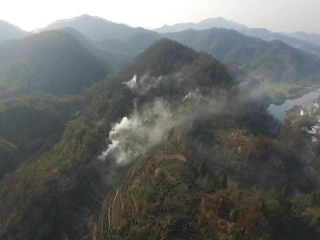smoke: (98, 71, 206, 165)
